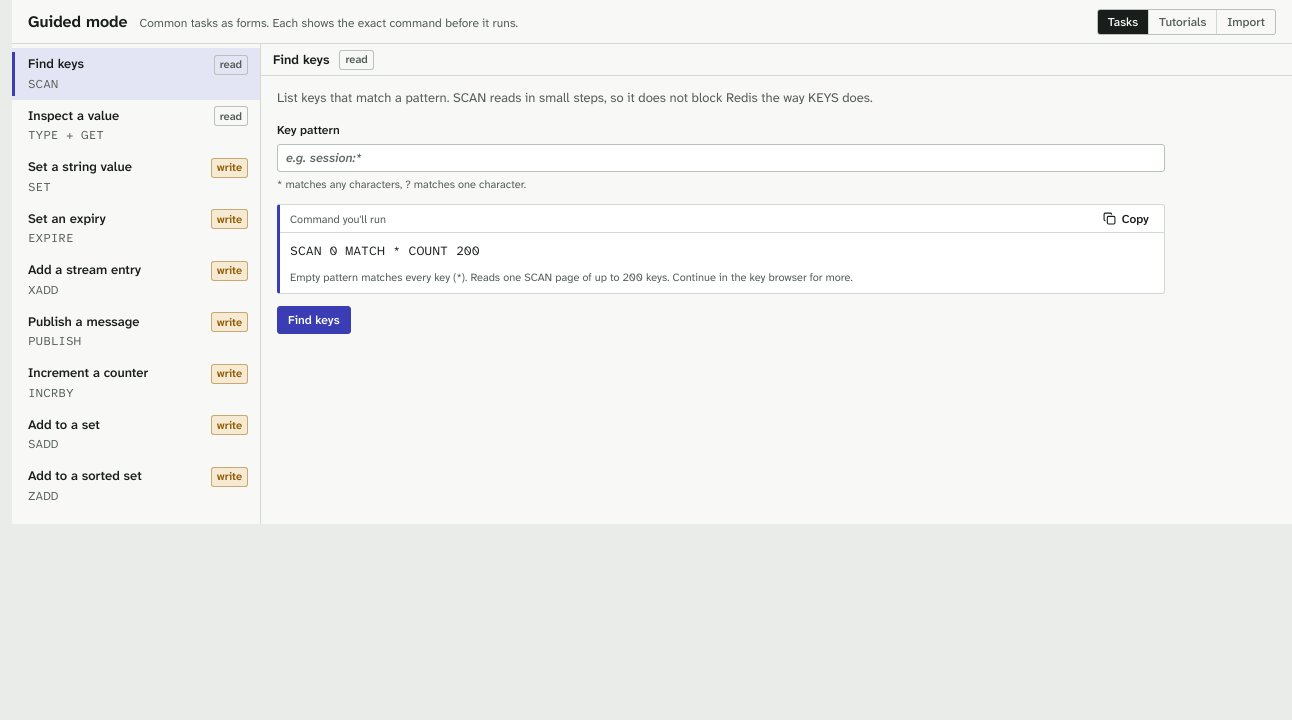
Scenario: web review round 2 medium › M7 / UX4: Guided states the empty pattern, explains results, clears stale results
The image size is (1292, 720).
Check: the text "Empty pattern matches every key" is shown, box [290, 270, 470, 284]
Click the button with test id "guided-ttl".
click(136, 228)  # box [12, 202, 260, 254]
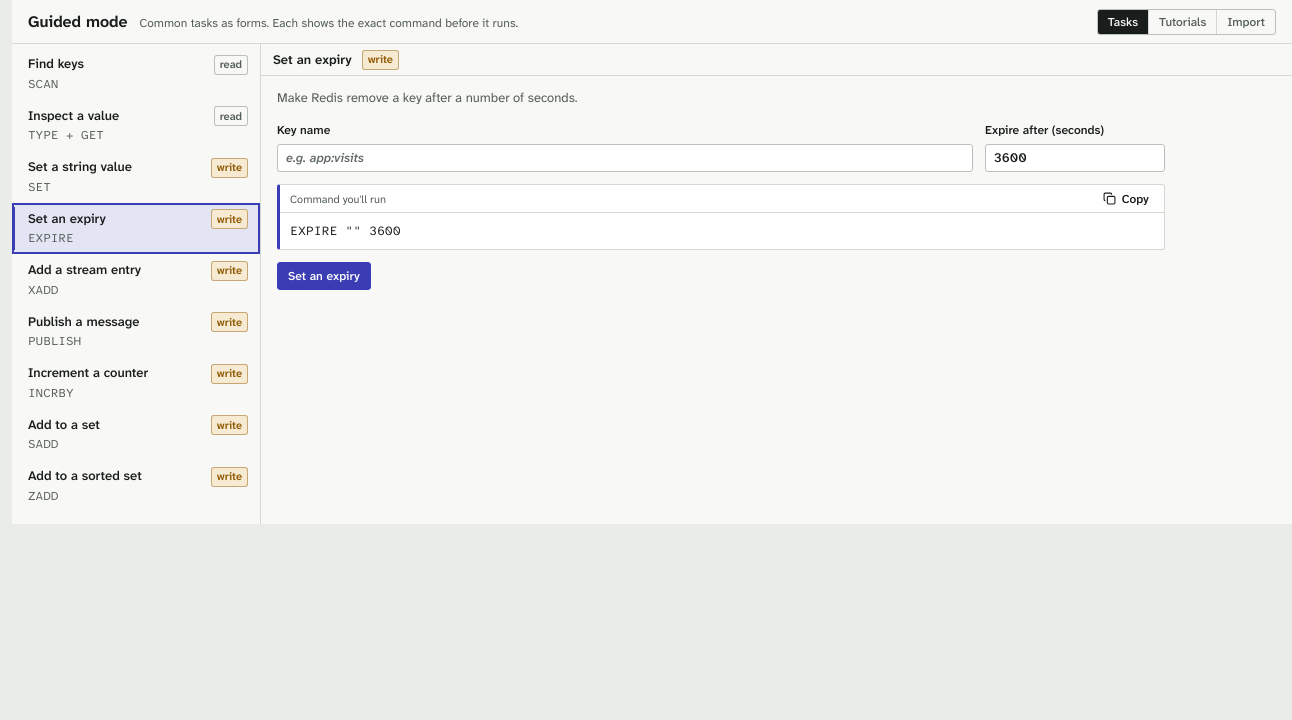
Type "missing" into the field with test id "guided-key".
click(625, 158); type("missing")  # box [277, 144, 973, 172]
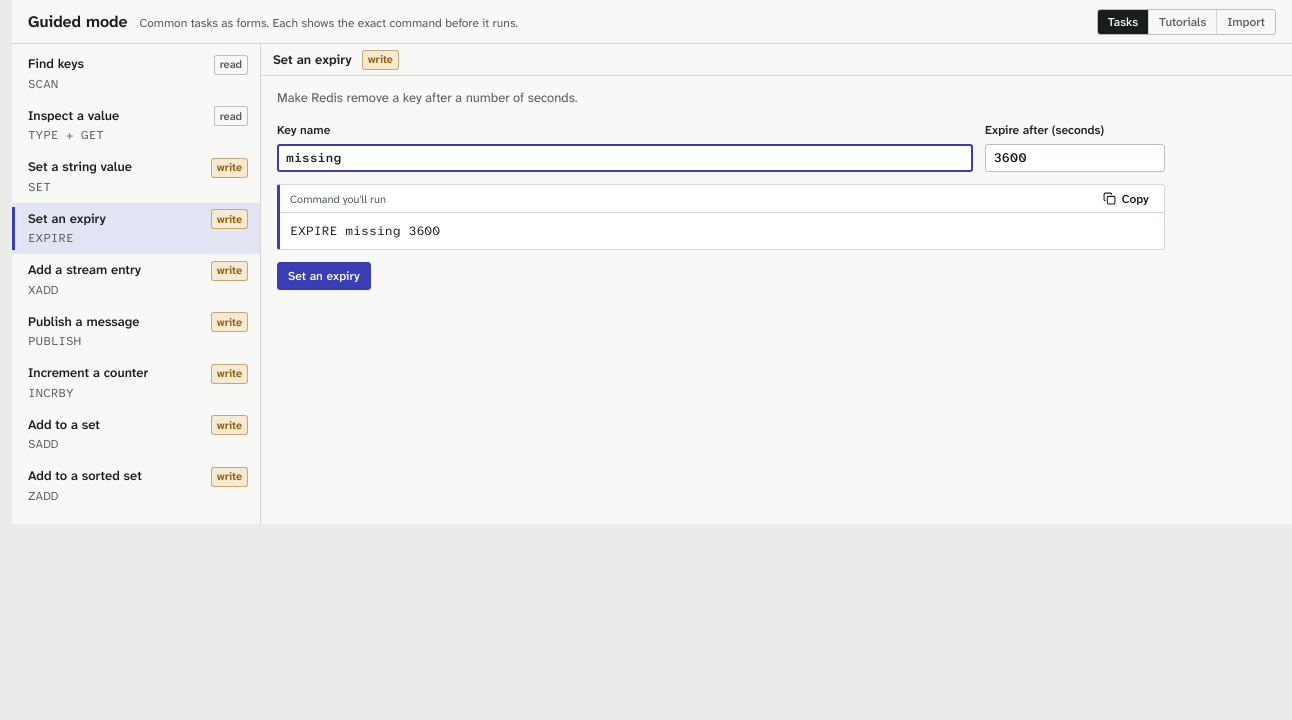
Click the button with test id "guided-run".
click(324, 276)  # box [277, 262, 371, 290]
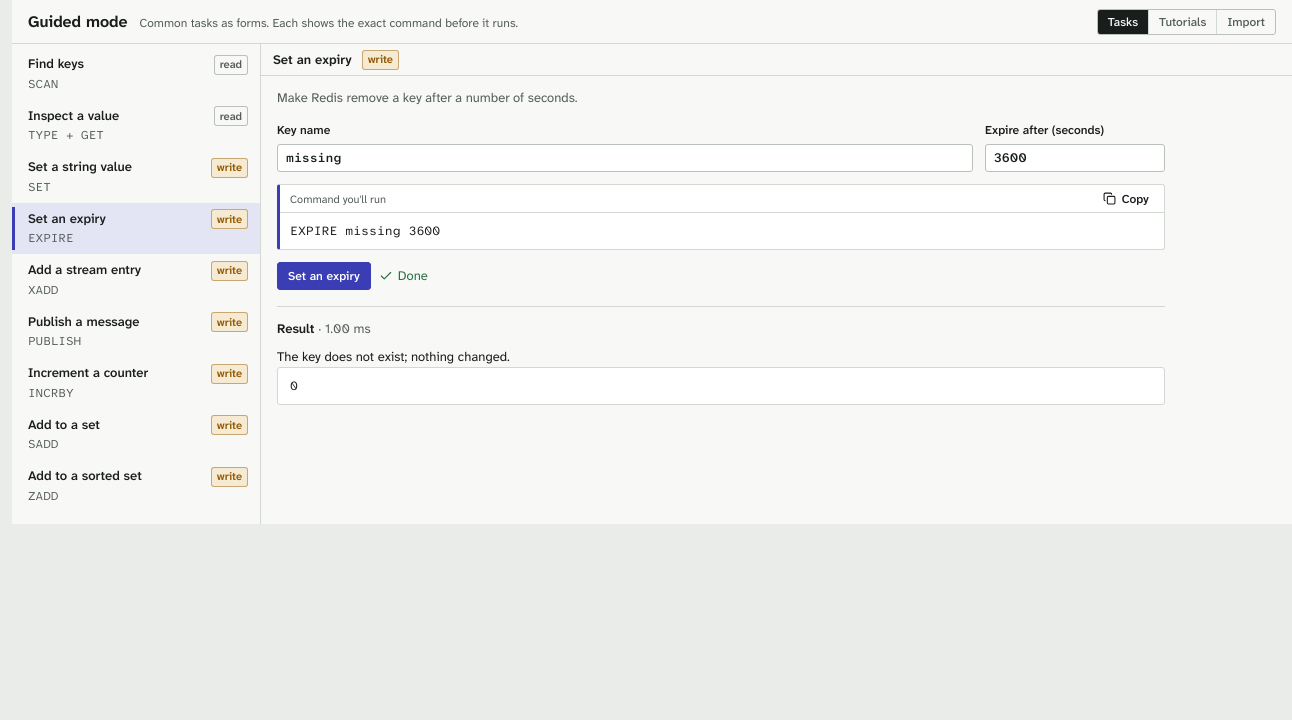
Check: the text "The key does not exist; nothing changed." is shown, box [277, 348, 510, 365]
Type "-new" into the field with test id "guided-key".
click(625, 158); type("-new")  # box [277, 144, 973, 172]
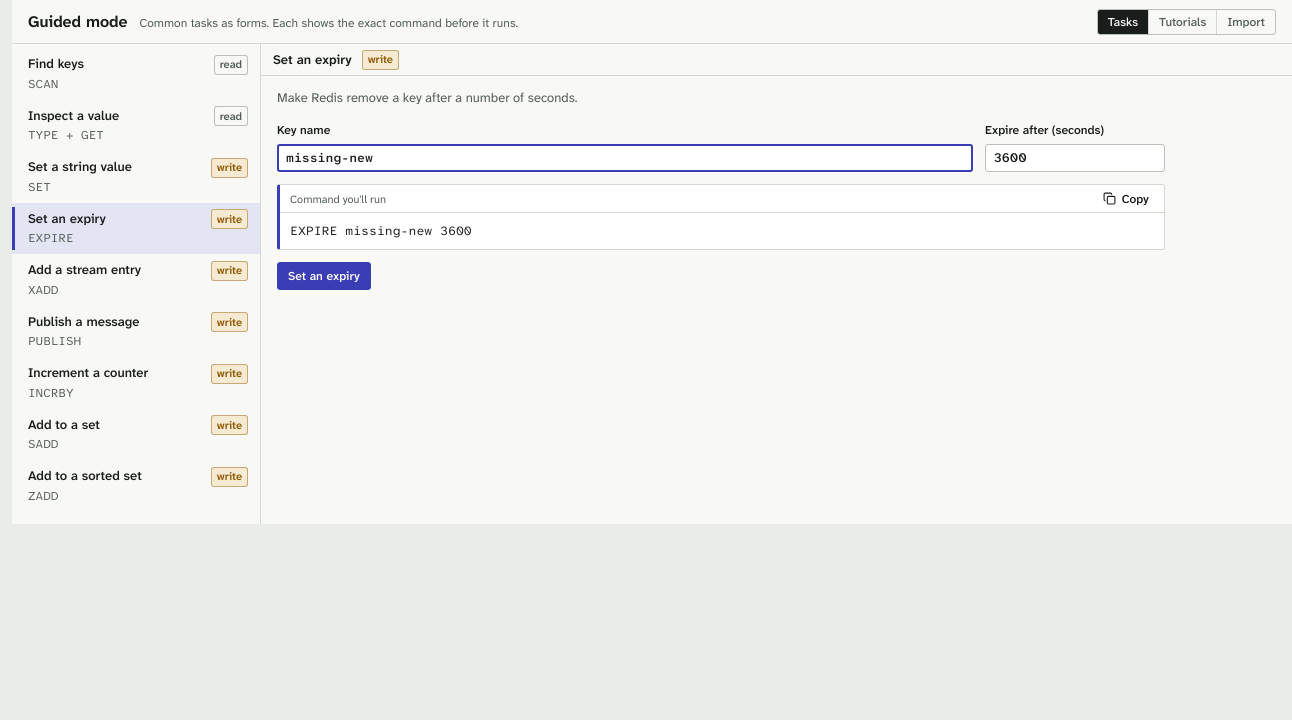
Check: the text "The key does not exist; nothing changed." is gone
Check: the text "Done" is gone
